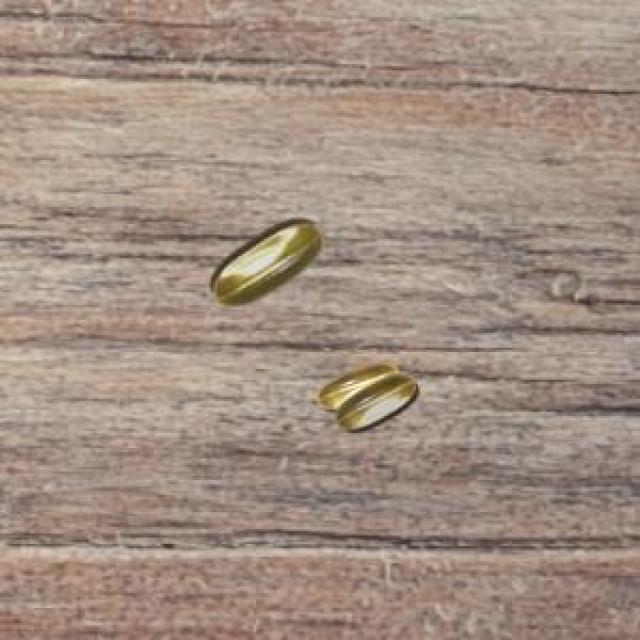Fish_Oil: (204, 207, 326, 322), (311, 356, 431, 437)
